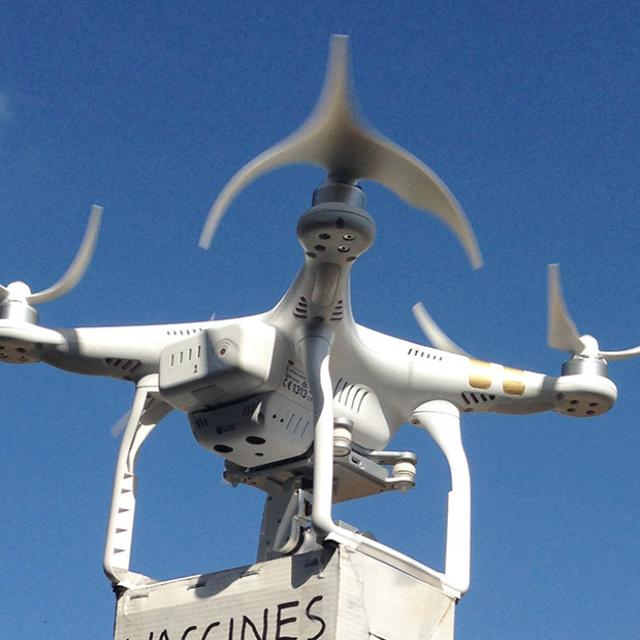drone: (0, 69, 640, 535)
